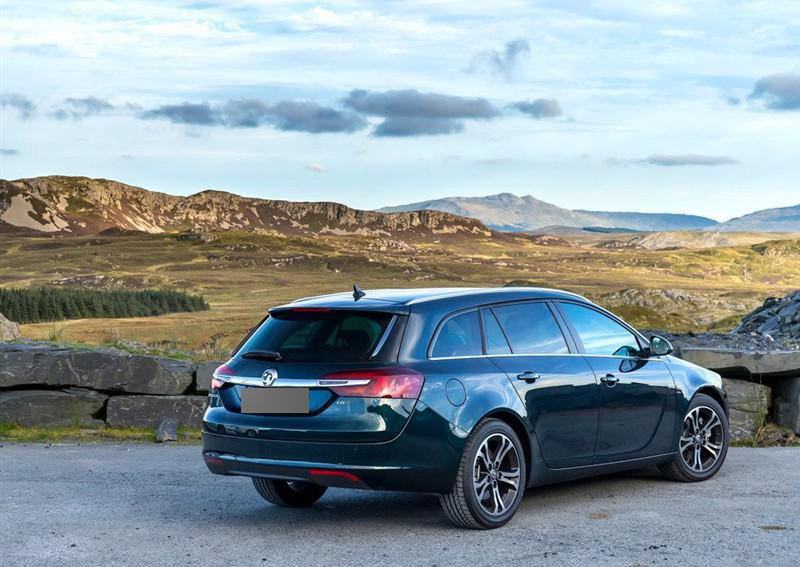Wagon: (201, 286, 730, 527)
